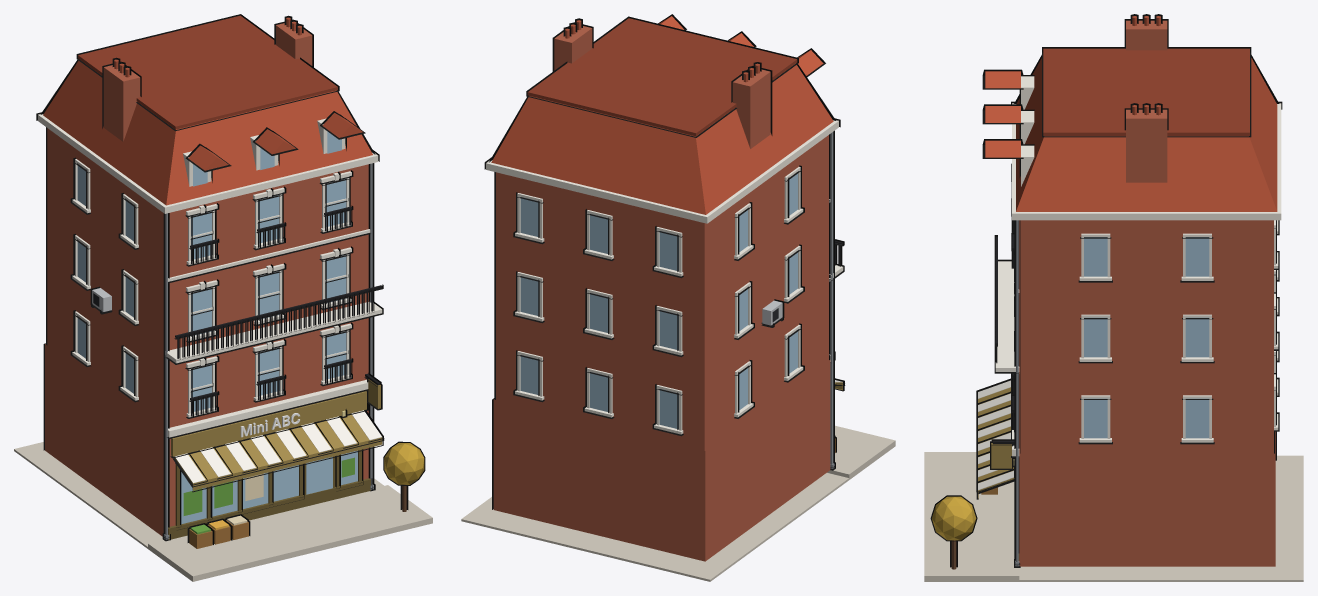
The model's file is Dukkan_mini_abc.fbx.
3 views of the same model, side by side, from view 1: azimuth 30°, elevation 25°; view 2: azimuth 150°, elevation 25°; view 3: azimuth 270°, elevation 25° (orthographic). The views are drawn at different scales.
Visible parts, largest first — view 1: Dukkan_mini_abc; view 2: Dukkan_mini_abc; view 3: Dukkan_mini_abc.
Part boxes in pixels (box(x1,y1,x2,y2)): Dukkan_mini_abc: box(14, 14, 432, 581); Dukkan_mini_abc: box(461, 14, 895, 581); Dukkan_mini_abc: box(924, 14, 1303, 581).
Bounding box in the file's own units: 10.08 × 17.06 × 12.76.
